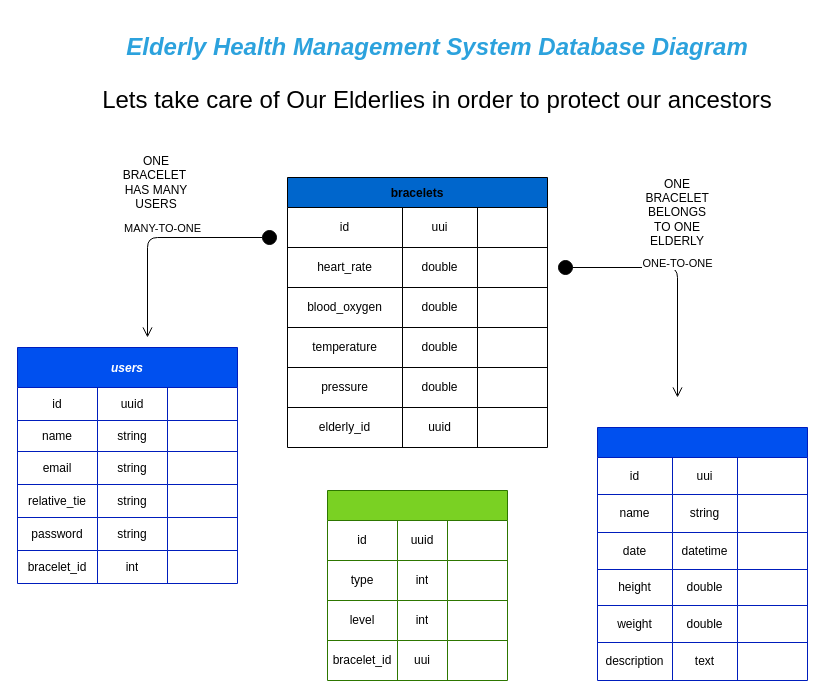
This 825x698 diagram has some shape labels left out. Here are the shapes that lost their labels. From the top down, the box of each, then its label:
(596, 426, 808, 680): elderlies
(326, 490, 508, 680): health_state
